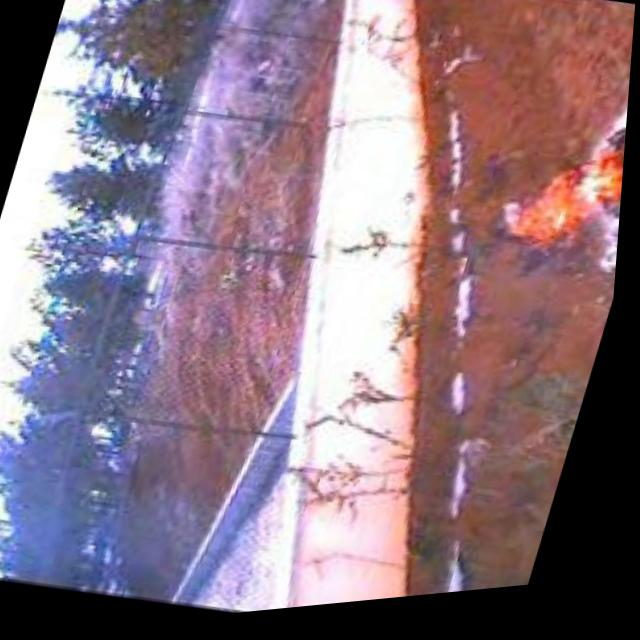Fire: (491, 114, 631, 281)
